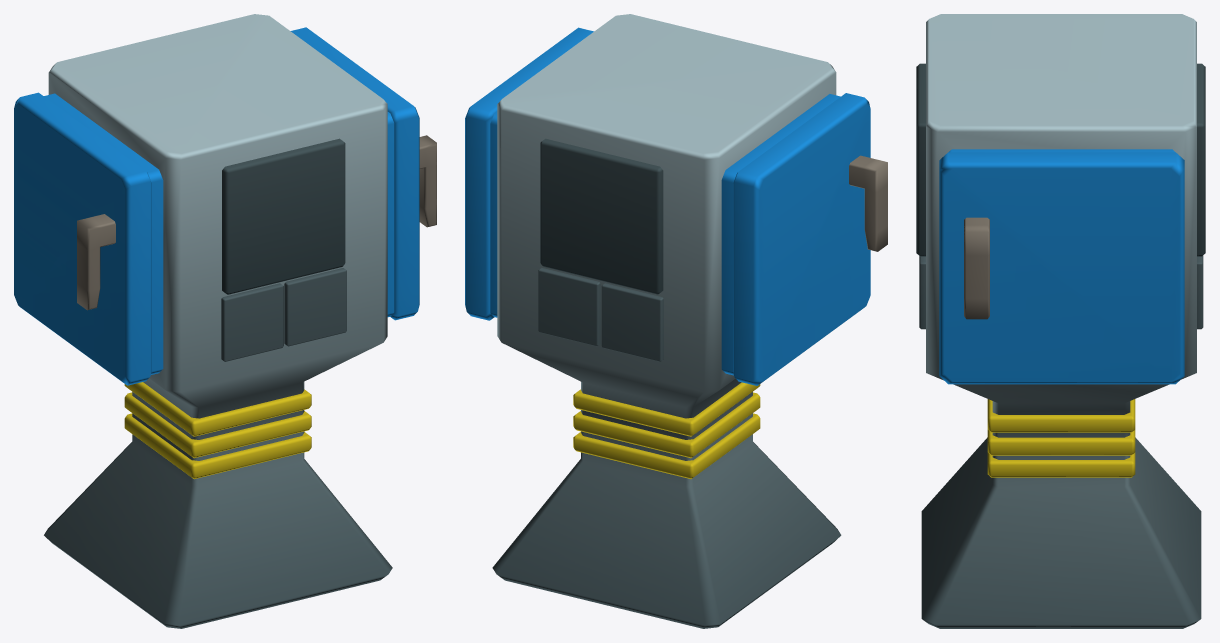
File: SM_Machine_Arrow_Colored_01.fbx
3 views of the same model, side by side, from view 1: azimuth 30°, elevation 25°; view 2: azimuth 150°, elevation 25°; view 3: azimuth 270°, elevation 25° (orthographic). The views are drawn at different scales.
Parts seen in each view (by area): view 1: Cube.001, Cube.024, Cube.023; view 2: Cube.001, Cube.024, Cube.023; view 3: Cube.001, Cube.023.
Part boxes in pixels (bbox=[...]): Cube.001: bbox=[44, 14, 392, 628]; Cube.024: bbox=[14, 92, 163, 385]; Cube.023: bbox=[290, 27, 436, 320]; Cube.001: bbox=[492, 14, 841, 628]; Cube.024: bbox=[721, 93, 887, 385]; Cube.023: bbox=[465, 27, 593, 320]; Cube.001: bbox=[916, 14, 1205, 628]; Cube.023: bbox=[939, 149, 1184, 384].
Bounding box in the file's own units: 116 × 78.35 × 150.
